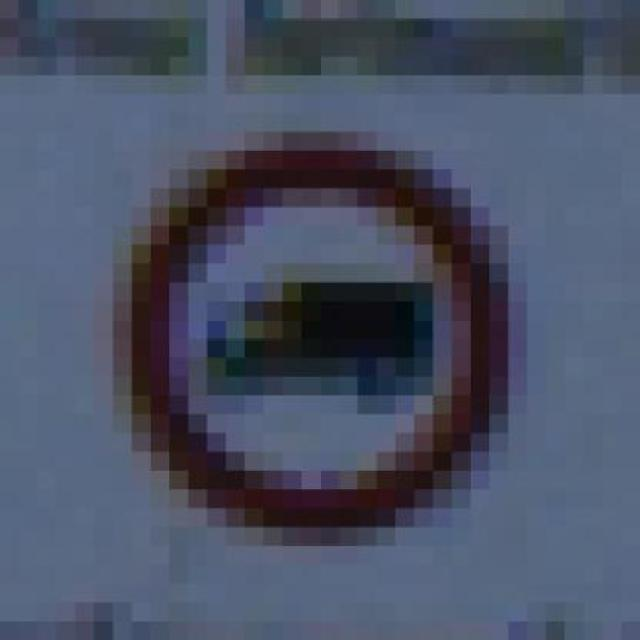Truck traffic is prohibited: (94, 94, 528, 546)
